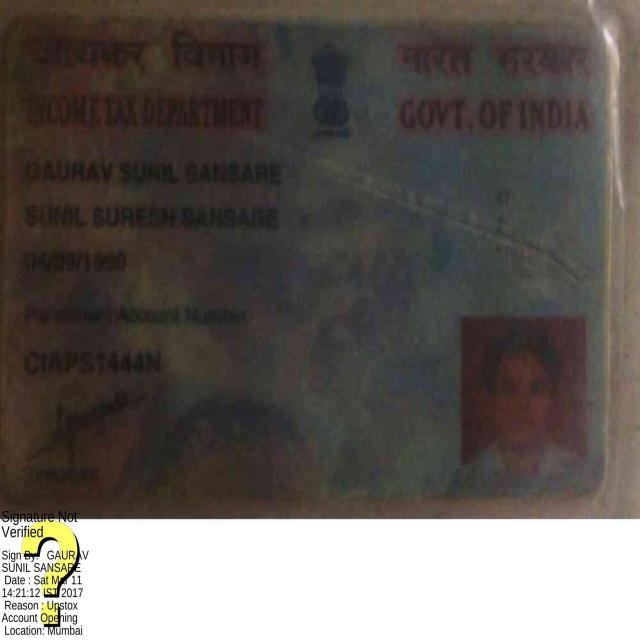pan_card: (5, 20, 607, 505)
